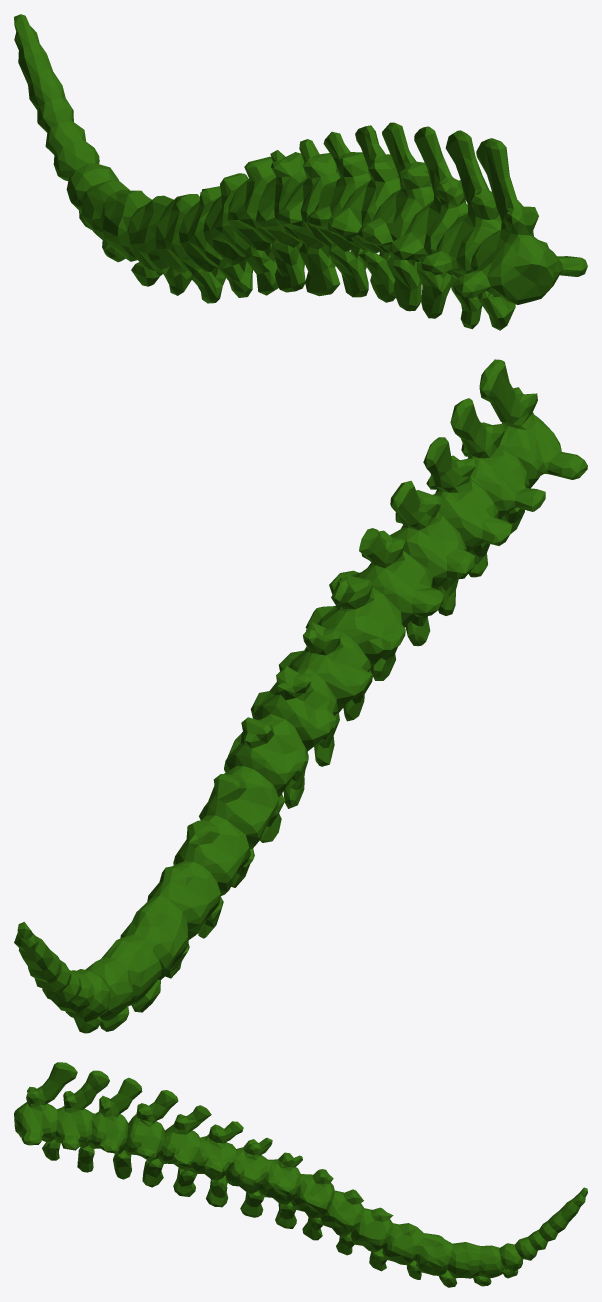
Rendered from SkeletonTail.fbx.
The picture shows the model from 3 angles, top to bottom: view 1: azimuth 30°, elevation 25°; view 2: azimuth 150°, elevation 25°; view 3: azimuth 270°, elevation 25°; orthographic projection. The views are drawn at different scales.
Visible parts, largest first — view 1: SkeletonTail; view 2: SkeletonTail; view 3: SkeletonTail.
Boxes of the visible parts, left/top/right/bottom form: SkeletonTail: left=14, top=14, right=587, bottom=330; SkeletonTail: left=14, top=359, right=587, bottom=1033; SkeletonTail: left=14, top=1062, right=587, bottom=1287.
Size of the model in its own units: 44.84 by 139 by 325.
